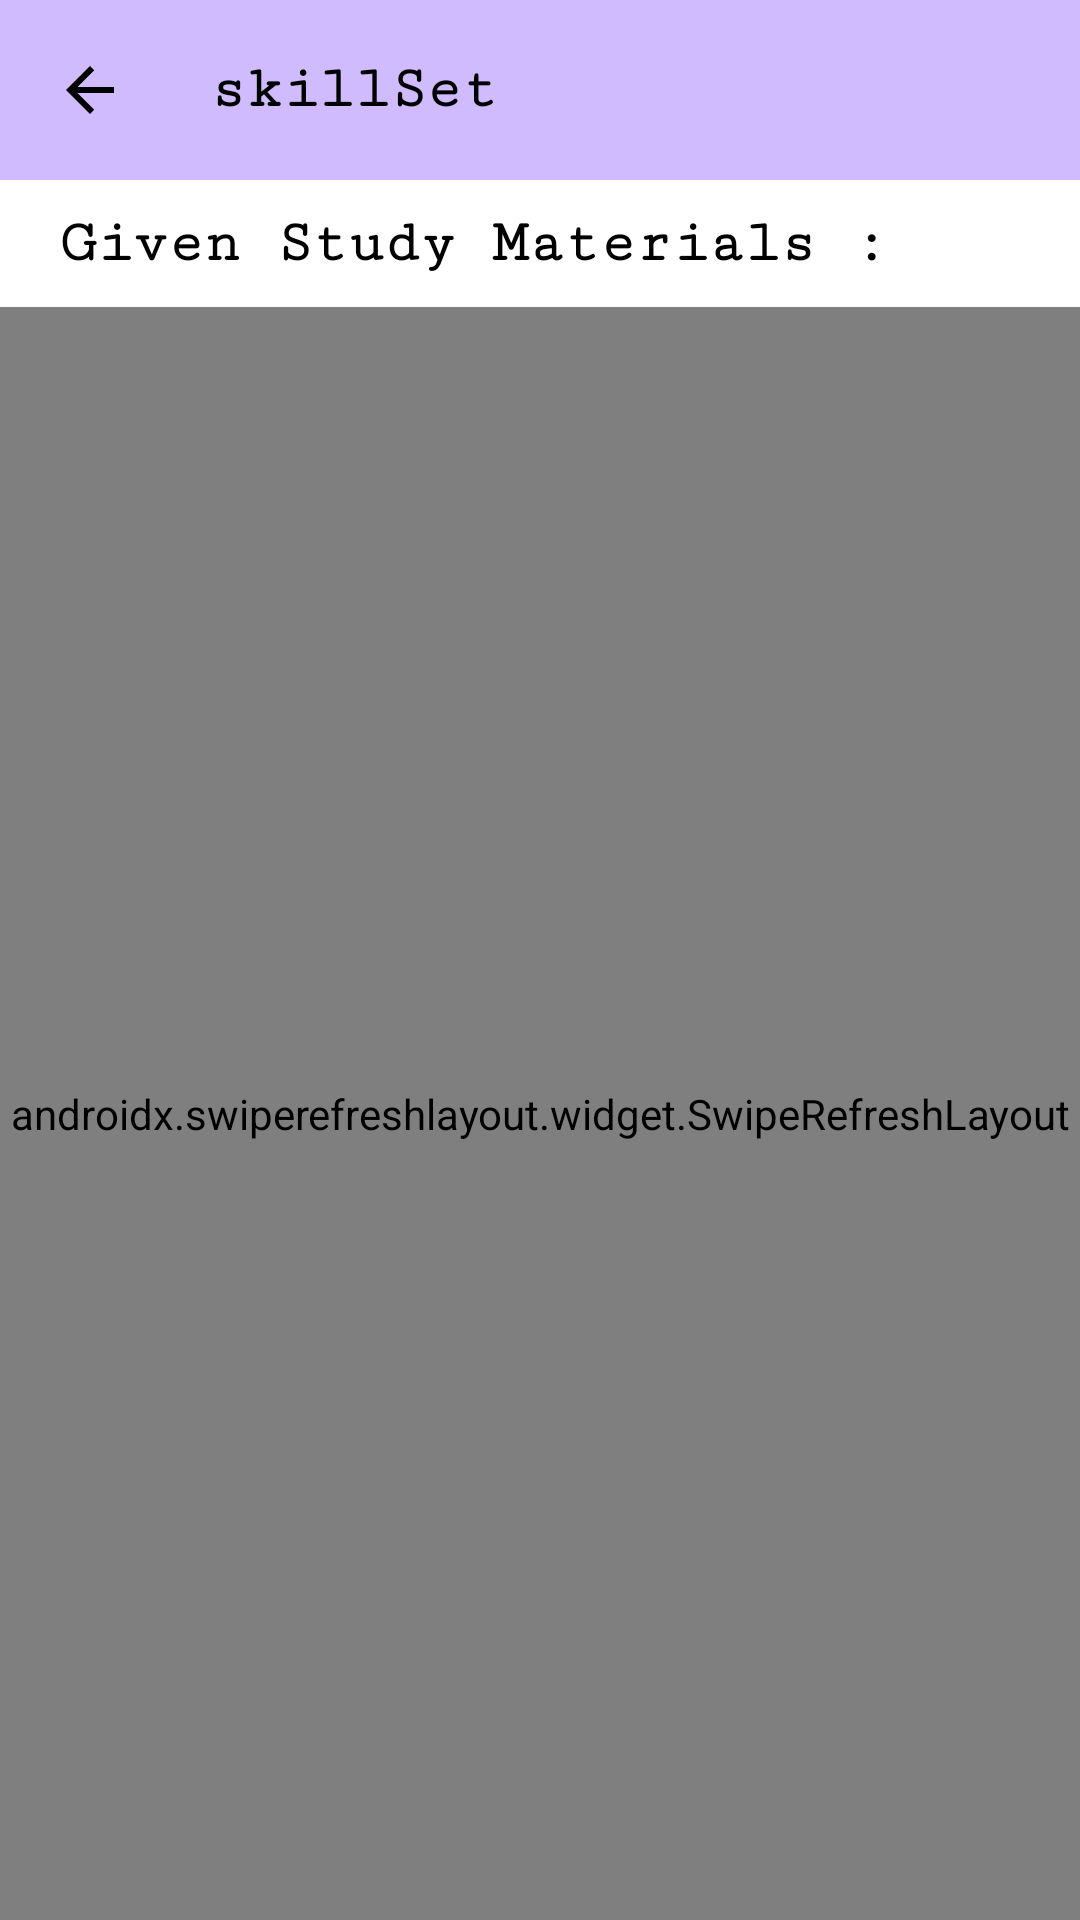

Screen size 1080w x 1920h. Icon name, then its box in pixels as (x1, y1, x2, y2):
file back: (66, 66, 114, 114)
